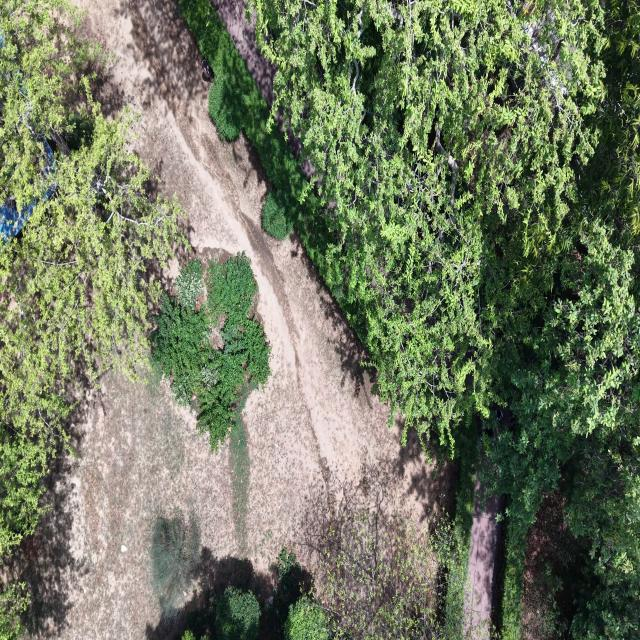DRY_AREA: (14, 0, 451, 638), (520, 492, 586, 639), (211, 0, 276, 106), (212, 0, 275, 106), (465, 471, 504, 639), (465, 472, 504, 639)
PATHWAYS: (466, 478, 503, 639)
VEGETATION_TREE: (180, 0, 639, 639), (181, 0, 639, 637), (254, 0, 639, 637), (255, 0, 605, 445), (0, 0, 184, 554), (0, 0, 183, 554), (0, 0, 180, 553), (491, 2, 639, 637), (490, 223, 639, 637), (184, 466, 454, 639), (180, 0, 324, 271), (152, 253, 269, 547), (178, 0, 322, 238), (299, 465, 455, 639), (152, 253, 269, 450), (315, 510, 448, 639), (183, 548, 327, 639), (522, 494, 584, 639), (206, 253, 270, 384), (153, 287, 219, 405), (443, 425, 478, 639), (151, 514, 200, 618), (267, 548, 313, 637), (497, 519, 526, 639), (229, 386, 250, 549), (215, 586, 260, 639), (209, 72, 241, 141), (284, 597, 328, 639), (0, 584, 29, 639), (261, 191, 292, 239), (175, 260, 203, 312), (182, 631, 196, 639)
